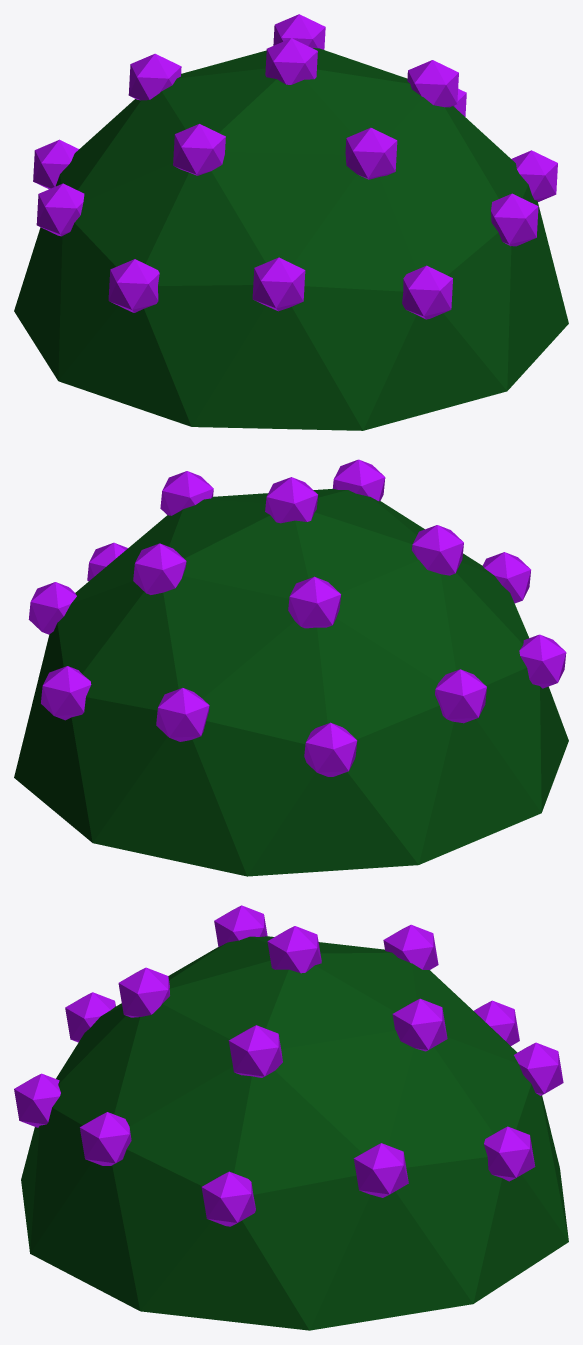
The model's file is BushFruitsPurple.obj.
The picture shows the model from 3 angles, top to bottom: view 1: azimuth 30°, elevation 25°; view 2: azimuth 150°, elevation 25°; view 3: azimuth 270°, elevation 25°; orthographic projection. The views are drawn at different scales.
Visible parts, largest first — view 1: BushFruitsPurple_Icosphere.030; view 2: BushFruitsPurple_Icosphere.030; view 3: BushFruitsPurple_Icosphere.030.
Part boxes in pixels (<box>): BushFruitsPurple_Icosphere.030: <box>14,14,568,430</box>; BushFruitsPurple_Icosphere.030: <box>14,459,568,876</box>; BushFruitsPurple_Icosphere.030: <box>14,905,568,1330</box>.
Size of the model in its own units: 6.05 by 3.36 by 5.92.
